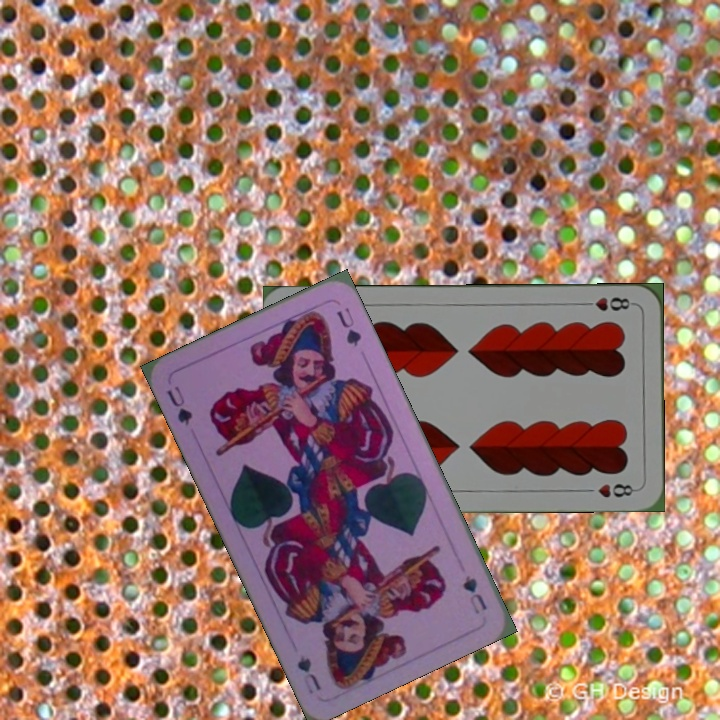GU: (162, 381, 195, 428), (458, 571, 490, 617)
H8: (578, 293, 637, 313)
